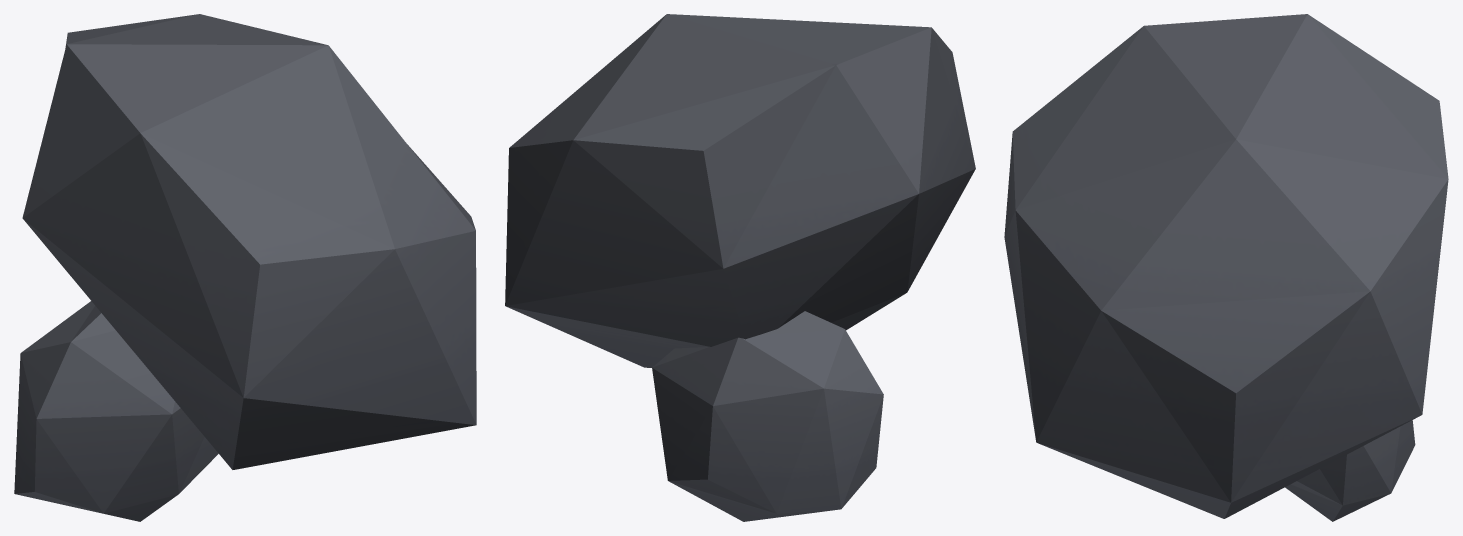
Rendered from Rock_001.FBX.
3 views of the same model, side by side, from view 1: azimuth 30°, elevation 25°; view 2: azimuth 150°, elevation 25°; view 3: azimuth 270°, elevation 25° (orthographic). The views are drawn at different scales.
Parts seen in each view (by area): view 1: Rock_001; view 2: Rock_001; view 3: Rock_001.
Boxes of the visible parts, x1,y1,x2,y2 form: Rock_001: [14, 14, 476, 521]; Rock_001: [505, 14, 975, 521]; Rock_001: [1004, 14, 1448, 521].
Bounding box in the file's own units: 2.36 × 2.65 × 2.28.
Materials: 1 (1 with a texture image).
